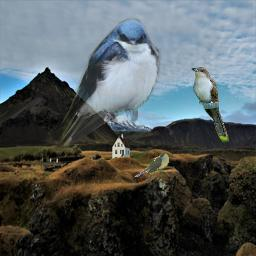Cuckoo: (191, 67, 229, 142), (134, 152, 169, 177)
Swallow: (56, 18, 161, 148)
